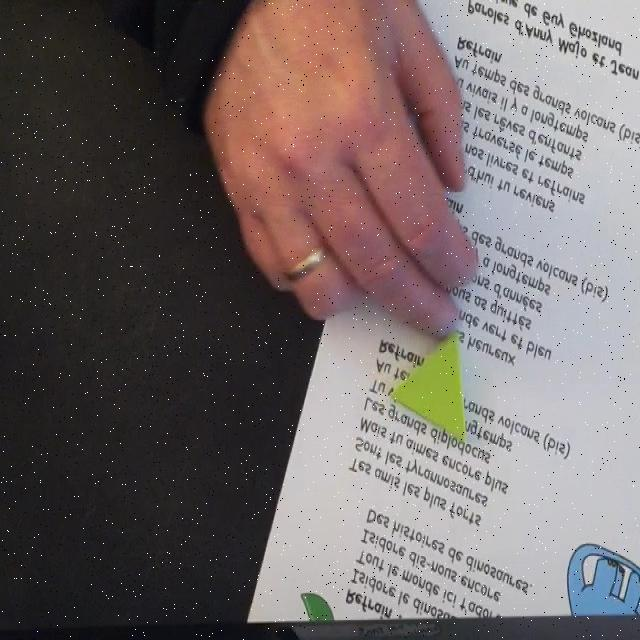triangle: (391, 328, 467, 451)
